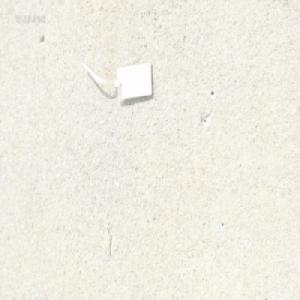LuggageTag: (82, 56, 154, 103)
